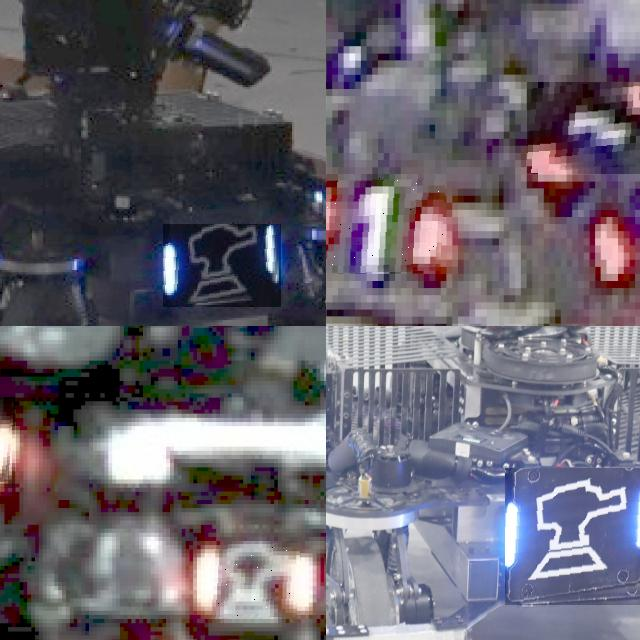Bs: (505, 468, 640, 606), (163, 224, 281, 307)
R1: (326, 174, 446, 273), (526, 81, 640, 174), (589, 167, 640, 281)
Rs: (205, 541, 301, 619)
